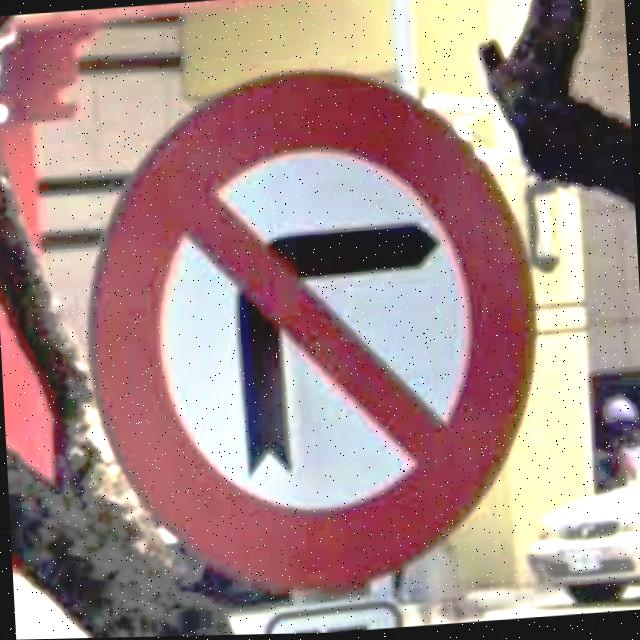noturnright: (89, 73, 538, 595)
